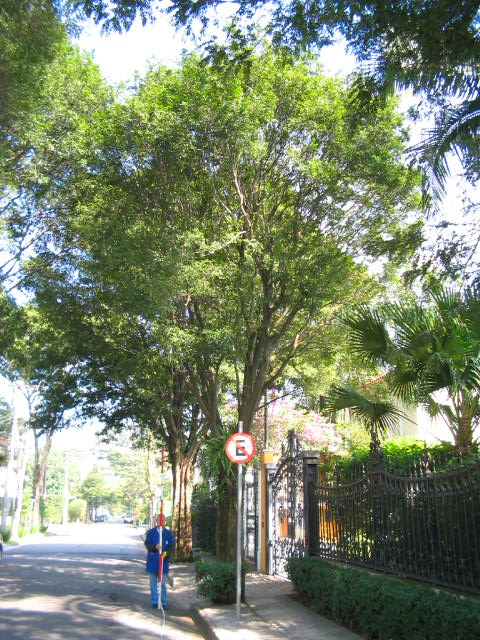crown: (67, 32, 428, 465)
stem: (206, 454, 258, 604)
stick: (150, 446, 168, 609)
tree: (68, 30, 429, 607)
